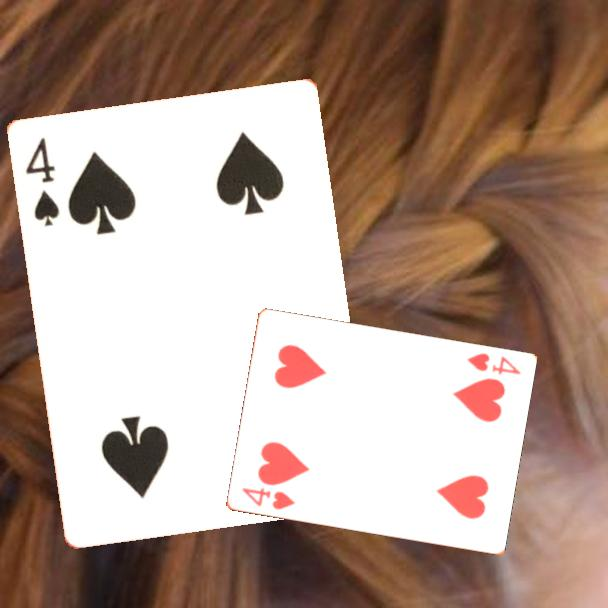h04: (238, 484, 298, 513), (463, 350, 523, 378)
s04: (23, 134, 63, 230)
